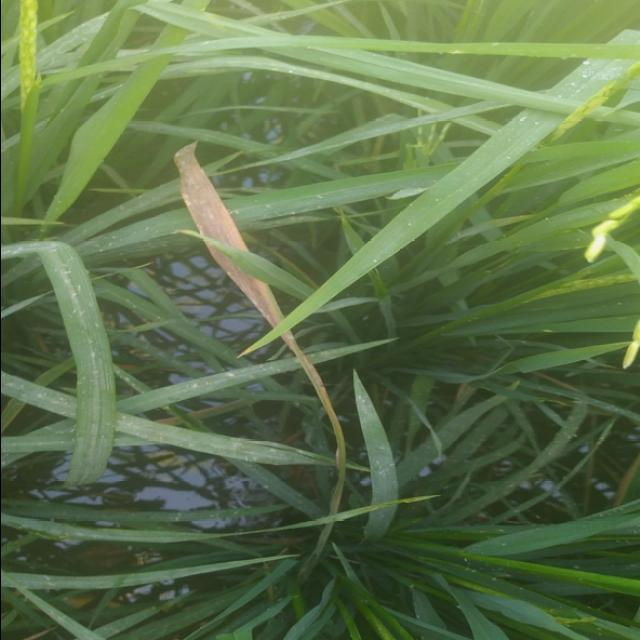Brown spot: (168, 137, 354, 590)
